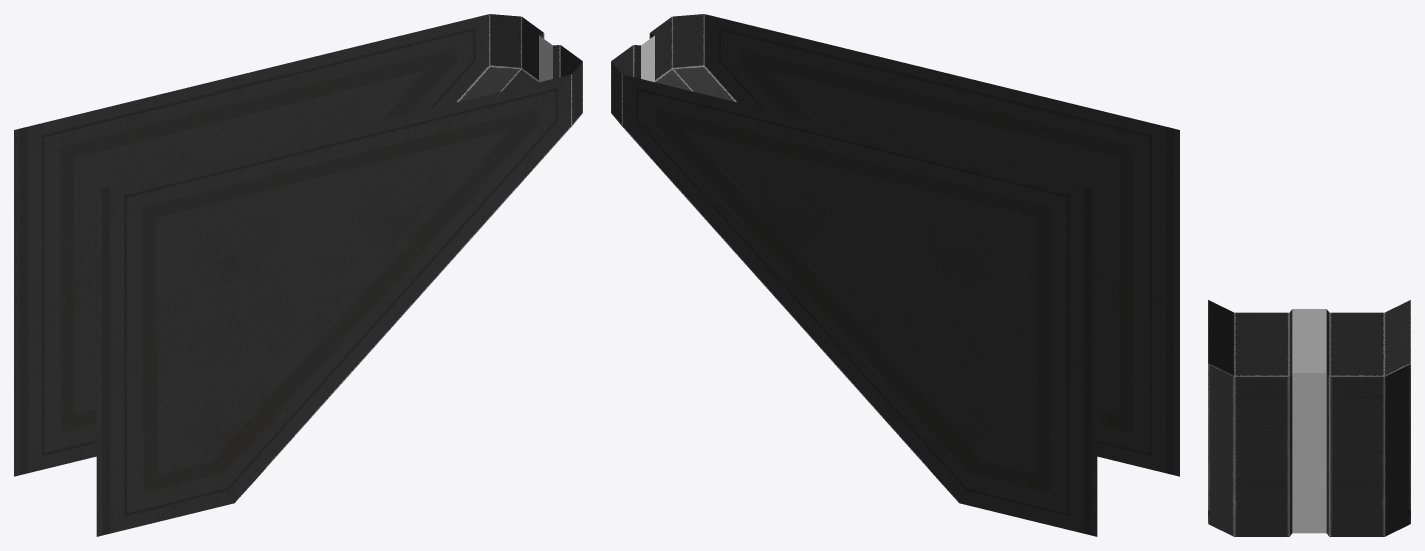
The model's file is Grand_frame_top.fbx.
3 renders of one model, left to right at view 1: azimuth 30°, elevation 25°; view 2: azimuth 150°, elevation 25°; view 3: azimuth 270°, elevation 25°, orthographic. The views are drawn at different scales.
Visible parts, largest first — view 1: Grand_frame_top004; view 2: Grand_frame_top004; view 3: Grand_frame_top004, light.
Boxes of the visible parts, bbox=[...] form: Grand_frame_top004: bbox=[14, 14, 582, 536]; Grand_frame_top004: bbox=[611, 14, 1179, 536]; Grand_frame_top004: bbox=[1208, 300, 1410, 536]; light: bbox=[1292, 309, 1326, 533].
Bounding box in the file's own units: 300 × 200 × 86.13.
